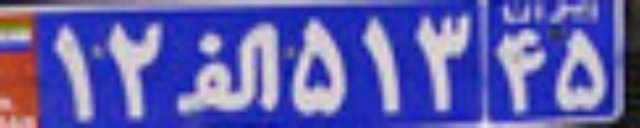1: (49, 22, 95, 123), (360, 15, 404, 116)
2: (107, 19, 162, 121)
3: (412, 12, 470, 112)
4: (496, 28, 545, 115)
5: (291, 16, 347, 118), (551, 27, 607, 112)
alef: (175, 20, 278, 117)
